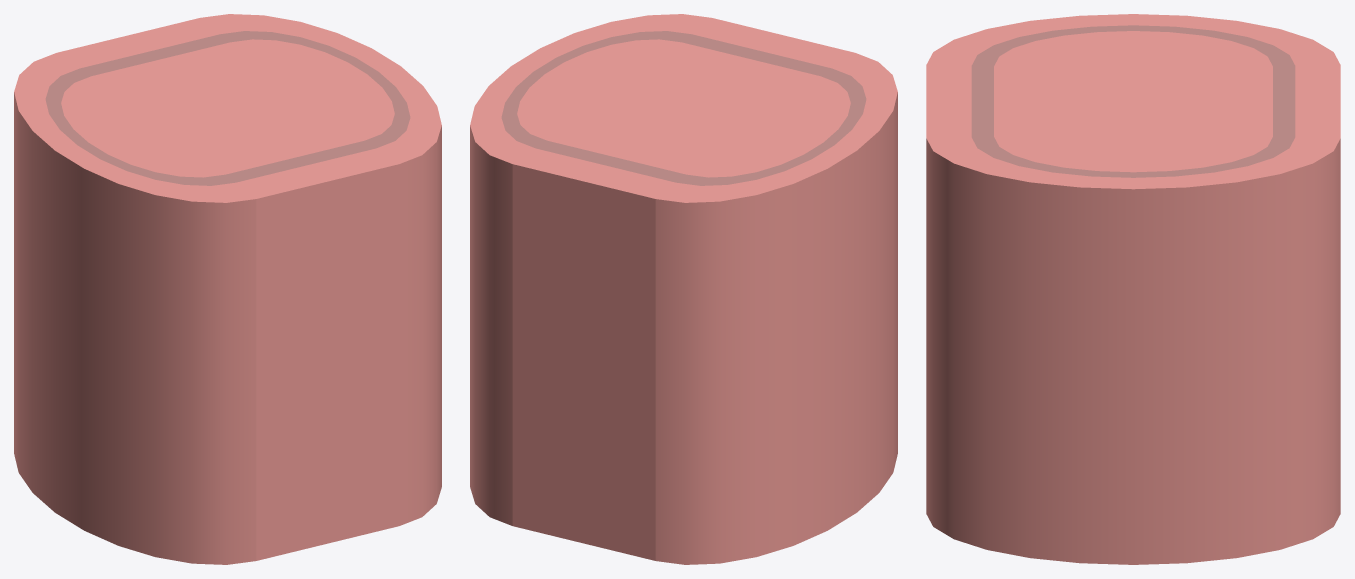
The model's file is kn-rug-rounded.glb.
3 views of the same model, side by side, from view 1: azimuth 30°, elevation 25°; view 2: azimuth 150°, elevation 25°; view 3: azimuth 270°, elevation 25° (orthographic). The views are drawn at different scales.
Visible parts, largest first — view 1: rugRounded(Clone); view 2: rugRounded(Clone); view 3: rugRounded(Clone).
Boxes of the visible parts, x1=… form: rugRounded(Clone): x1=14, y1=14, x2=441, y2=564; rugRounded(Clone): x1=470, y1=14, x2=897, y2=564; rugRounded(Clone): x1=926, y1=14, x2=1340, y2=564.
Bounding box in the file's own units: 1 × 1 × 1.
